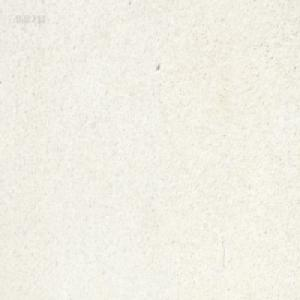Wrench: (200, 0, 207, 5)
